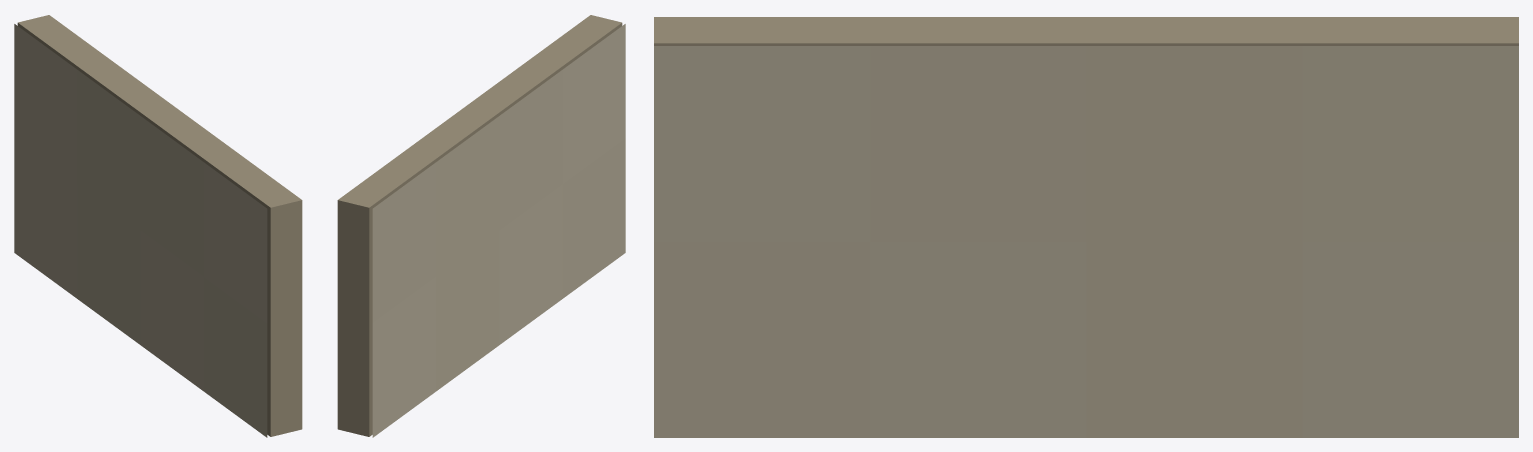
File: wall-plaster-half.glb
3 renders of one model, left to right at view 1: azimuth 30°, elevation 25°; view 2: azimuth 150°, elevation 25°; view 3: azimuth 270°, elevation 25°, orthographic. The views are drawn at different scales.
Parts seen in each view (by area): view 1: wall-plaster-half; view 2: wall-plaster-half; view 3: wall-plaster-half.
Boxes of the visible parts, box(x1,y1,x2,y2) form: wall-plaster-half: box(14, 15, 302, 437); wall-plaster-half: box(337, 15, 625, 437); wall-plaster-half: box(654, 17, 1518, 437).
Size of the model in its own units: 0.088 by 0.5 by 1.
